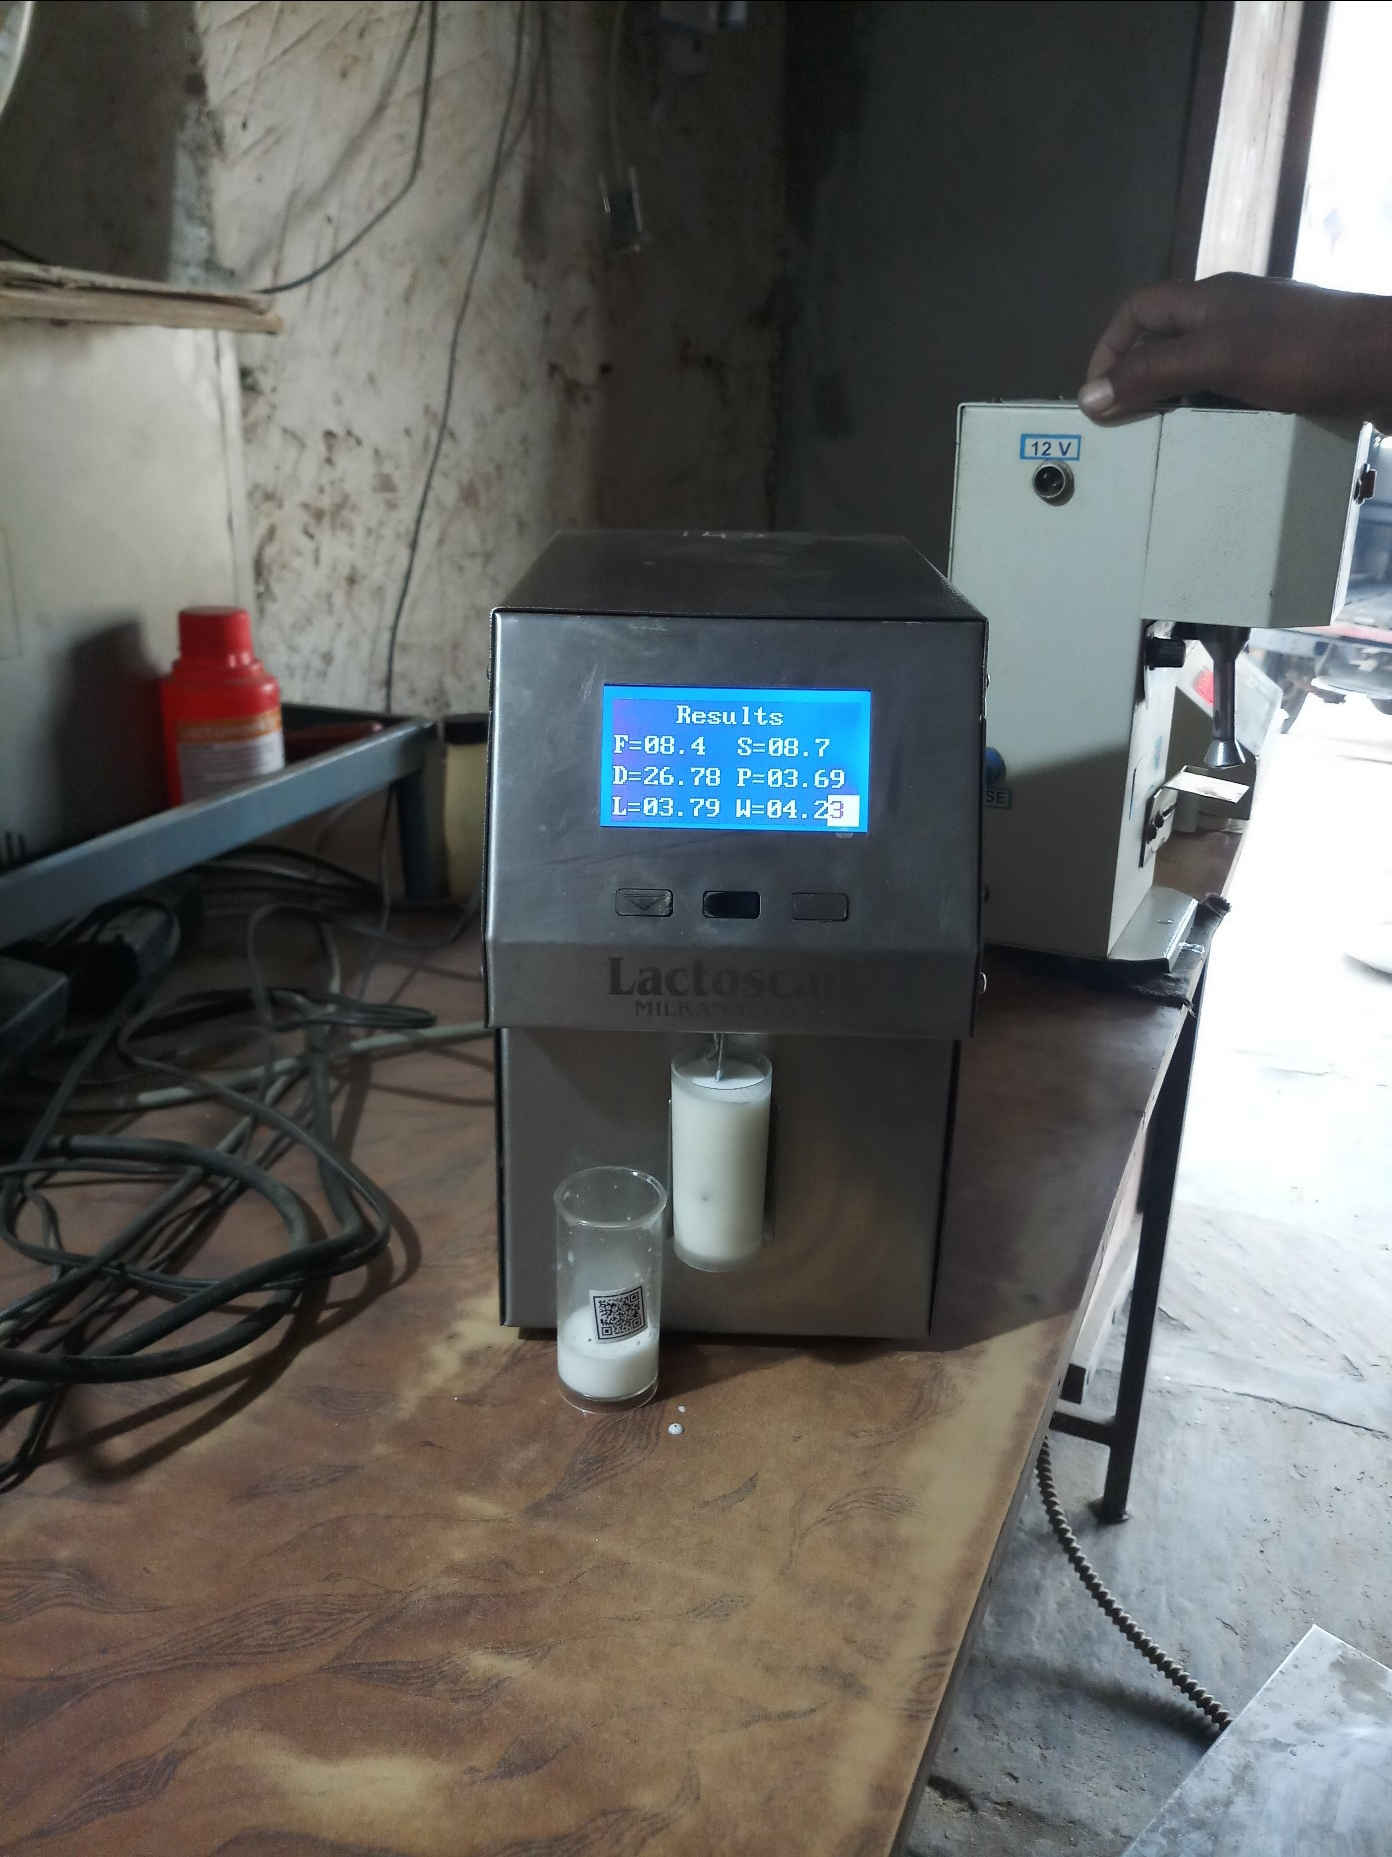lcd: (591, 678, 883, 842)
qr: (586, 1279, 646, 1345)
